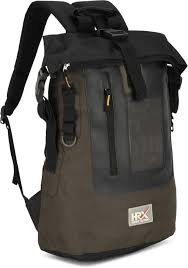backpack: (0, 0, 187, 261)
